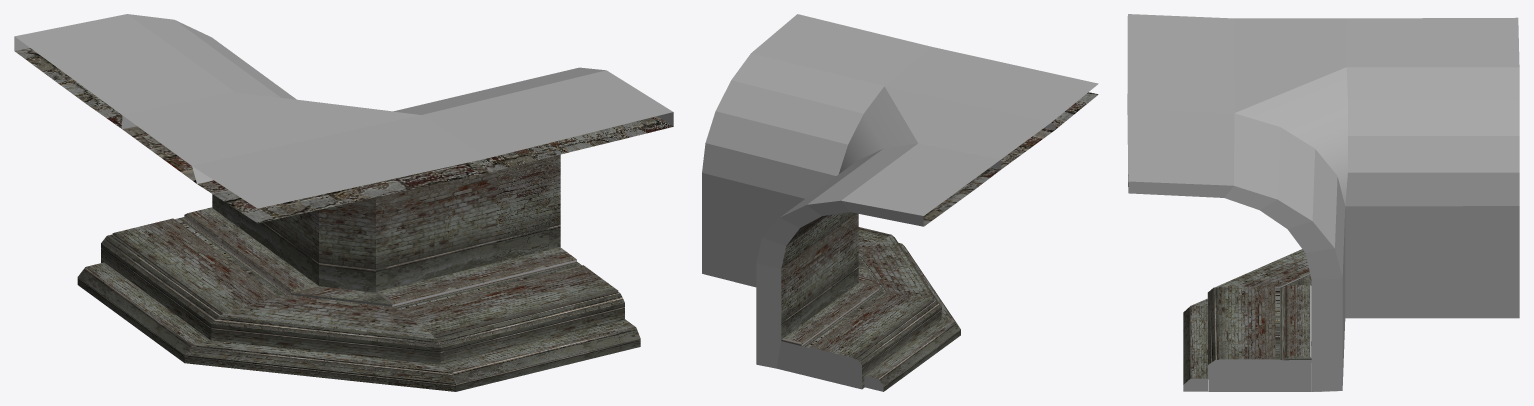
File: newcorner.fbx
The picture shows the model from 3 angles, left to right: view 1: azimuth 30°, elevation 25°; view 2: azimuth 150°, elevation 25°; view 3: azimuth 270°, elevation 25°; orthographic projection. The views are drawn at different scales.
Parts seen in each view (by area): view 1: polySurface40; view 2: polySurface40; view 3: polySurface40.
Boxes of the visible parts, box(x1,y1,x2,y2) form: polySurface40: box(14, 14, 673, 391); polySurface40: box(702, 14, 1098, 391); polySurface40: box(1127, 14, 1519, 391).
Bounding box in the file's own units: 37.33 × 22.67 × 37.63.
Materials: 2 (1 with a texture image).
